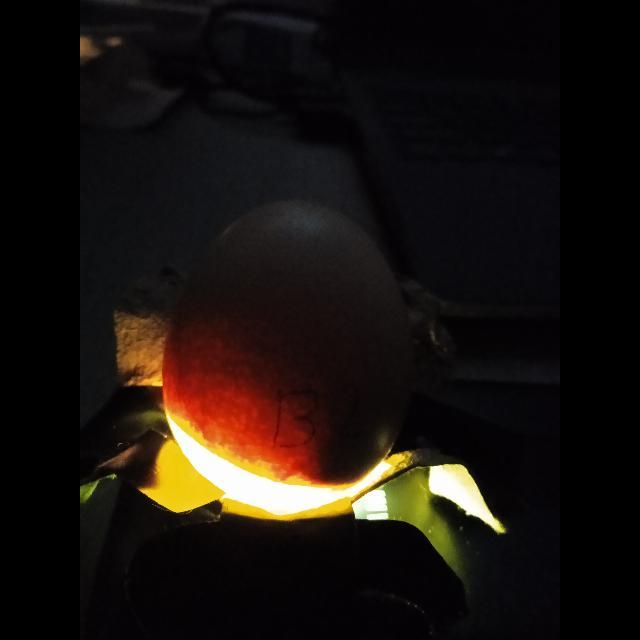Fertile: (160, 198, 418, 520)
